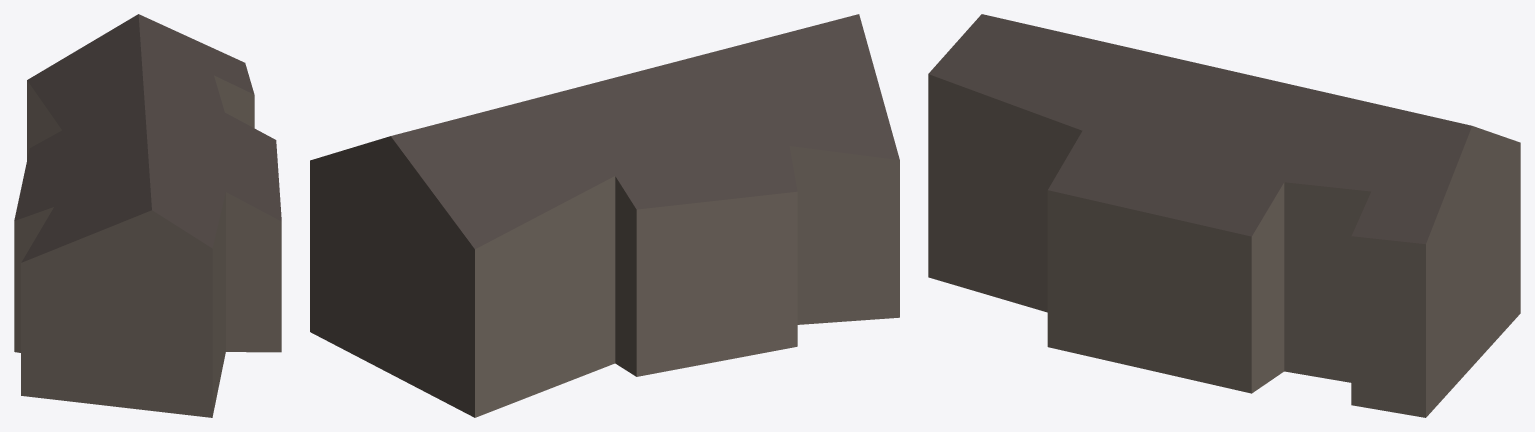
3 renders of one model, left to right at view 1: azimuth 30°, elevation 25°; view 2: azimuth 150°, elevation 25°; view 3: azimuth 270°, elevation 25°, orthographic. The views are drawn at different scales.
Parts seen in each view (by area): view 1: HP-w293024003; view 2: HP-w293024003; view 3: HP-w293024003.
Boxes of the visible parts, x1=… form: HP-w293024003: x1=14, y1=14, x2=281, y2=417; HP-w293024003: x1=310, y1=14, x2=899, y2=417; HP-w293024003: x1=928, y1=14, x2=1520, y2=417.
Size of the model in its own units: 25.98 by 13.81 by 30.78.
